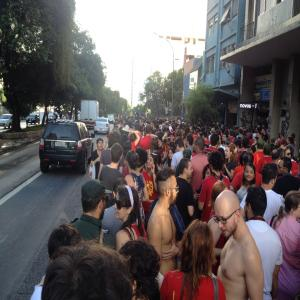Vehicle-registration-plate: (56, 144, 67, 147)
